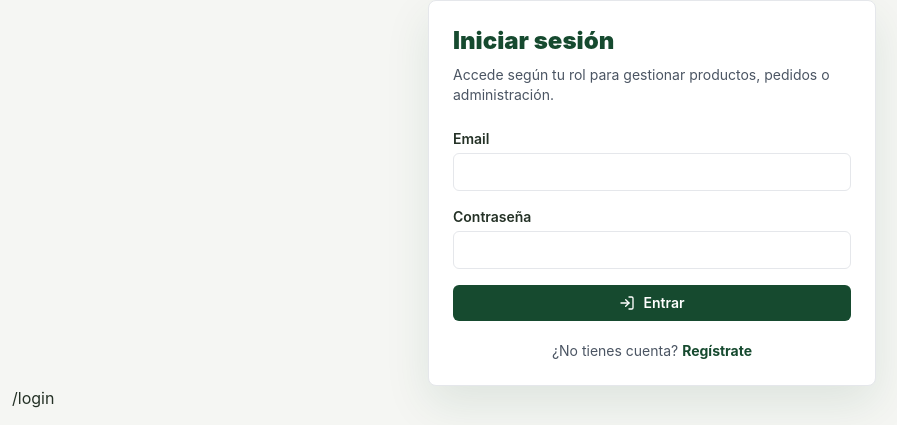
Scenario: Login › lleva al administrador a su panel
Type "admin@agrotech.com" into the field labelled "Email" at (652, 172), box 453,153 -> 851,191
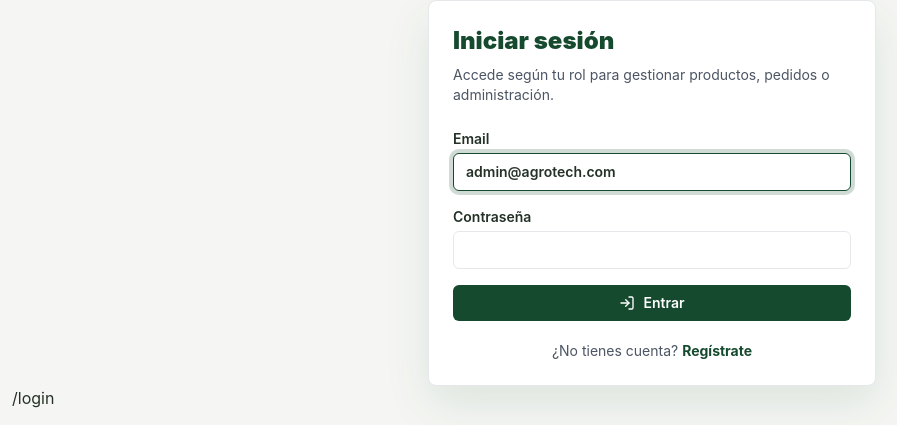
Type "Agrotech123" into the password field labelled "Contraseña" at (652, 250), box 453,231 -> 851,269
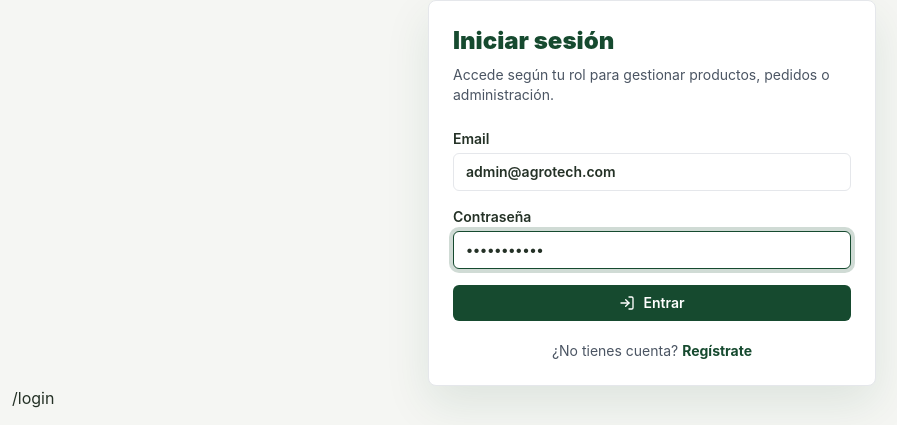
Click the button "Entrar" at (652, 303), box 453,285 -> 851,321
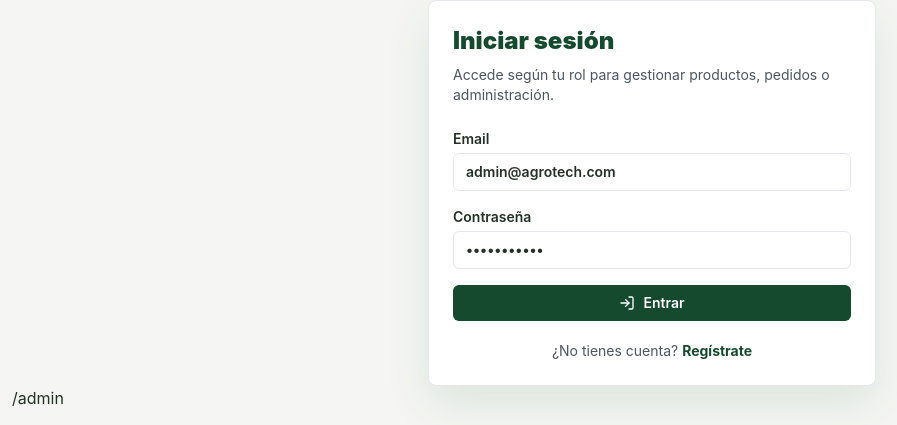
Expected: the text with test id "location" reads "/admin", 12,388 -> 64,408
